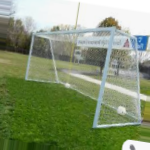goals: (24, 26, 145, 132)
